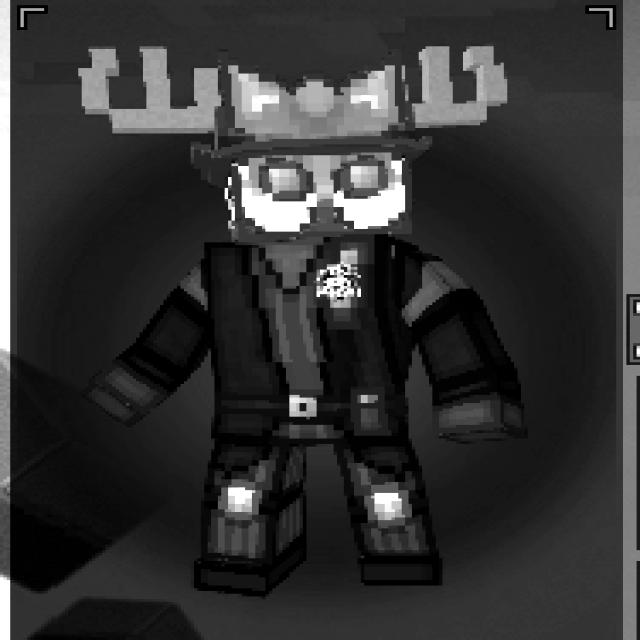Head: (232, 136, 413, 240)
Player: (85, 42, 531, 594)
